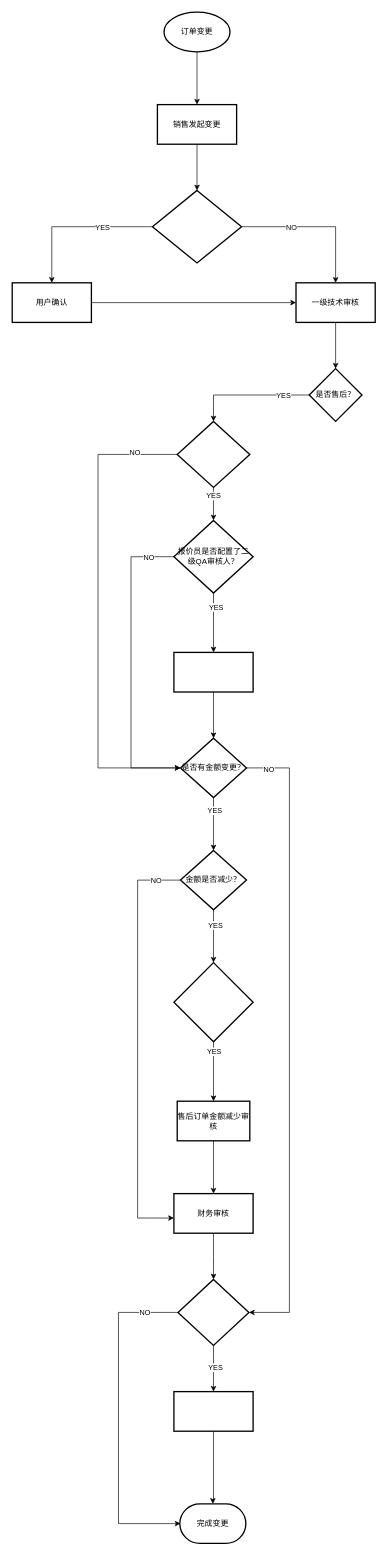
Some shapes in this 387 by 1555 pixel diagram are drawn without their labels. Here are the shapes that lost their labels. From the top down, the box of each, then its label:
(151, 189, 242, 263): 是否需要用户先确认？
(176, 420, 250, 488): 变更是否满足二级QA审核场景？
(173, 651, 253, 692): 二级QA审核
(173, 962, 253, 1042): 订单跟单员是否配置了售后变更金额减少审核人？
(177, 1278, 249, 1346): 是否需要用户确认？
(173, 1391, 253, 1432): 用户确认审核
